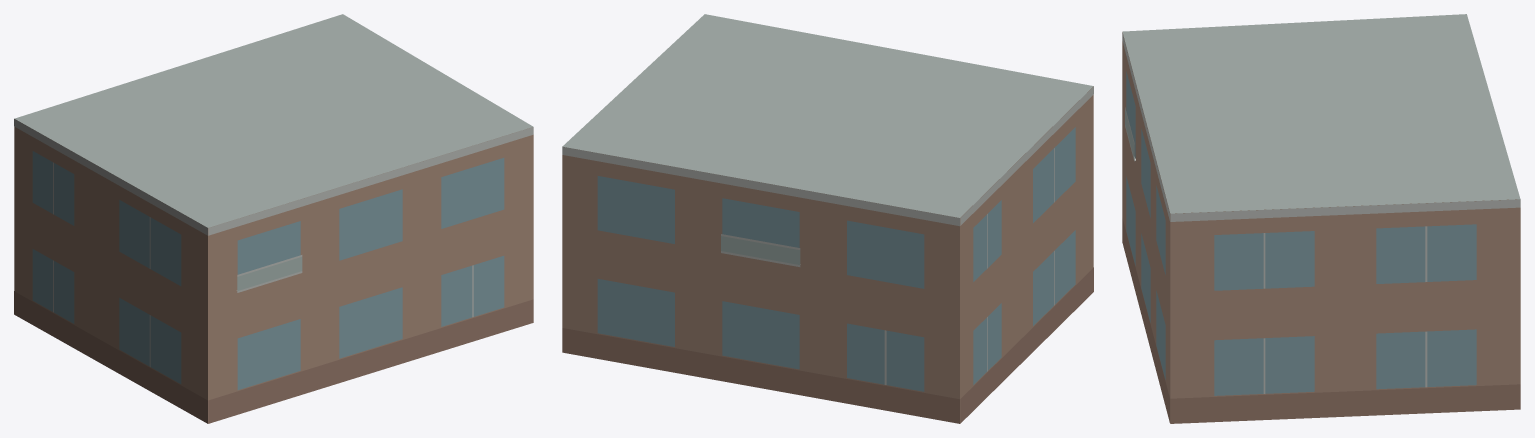
File: survey-upis-32571260.glb
3 renders of one model, left to right at view 1: azimuth 30°, elevation 25°; view 2: azimuth 150°, elevation 25°; view 3: azimuth 270°, elevation 25°, orthographic. The views are drawn at different scales.
Visible parts, largest first — view 1: survey-upis-32571260.tmp; view 2: survey-upis-32571260.tmp; view 3: survey-upis-32571260.tmp.
Boxes of the visible parts, x1,y1,x2,y2 form: survey-upis-32571260.tmp: (14, 14, 533, 423); survey-upis-32571260.tmp: (562, 14, 1093, 423); survey-upis-32571260.tmp: (1122, 14, 1520, 423).
Size of the model in its own units: 12.43 by 6.1 by 10.48.
